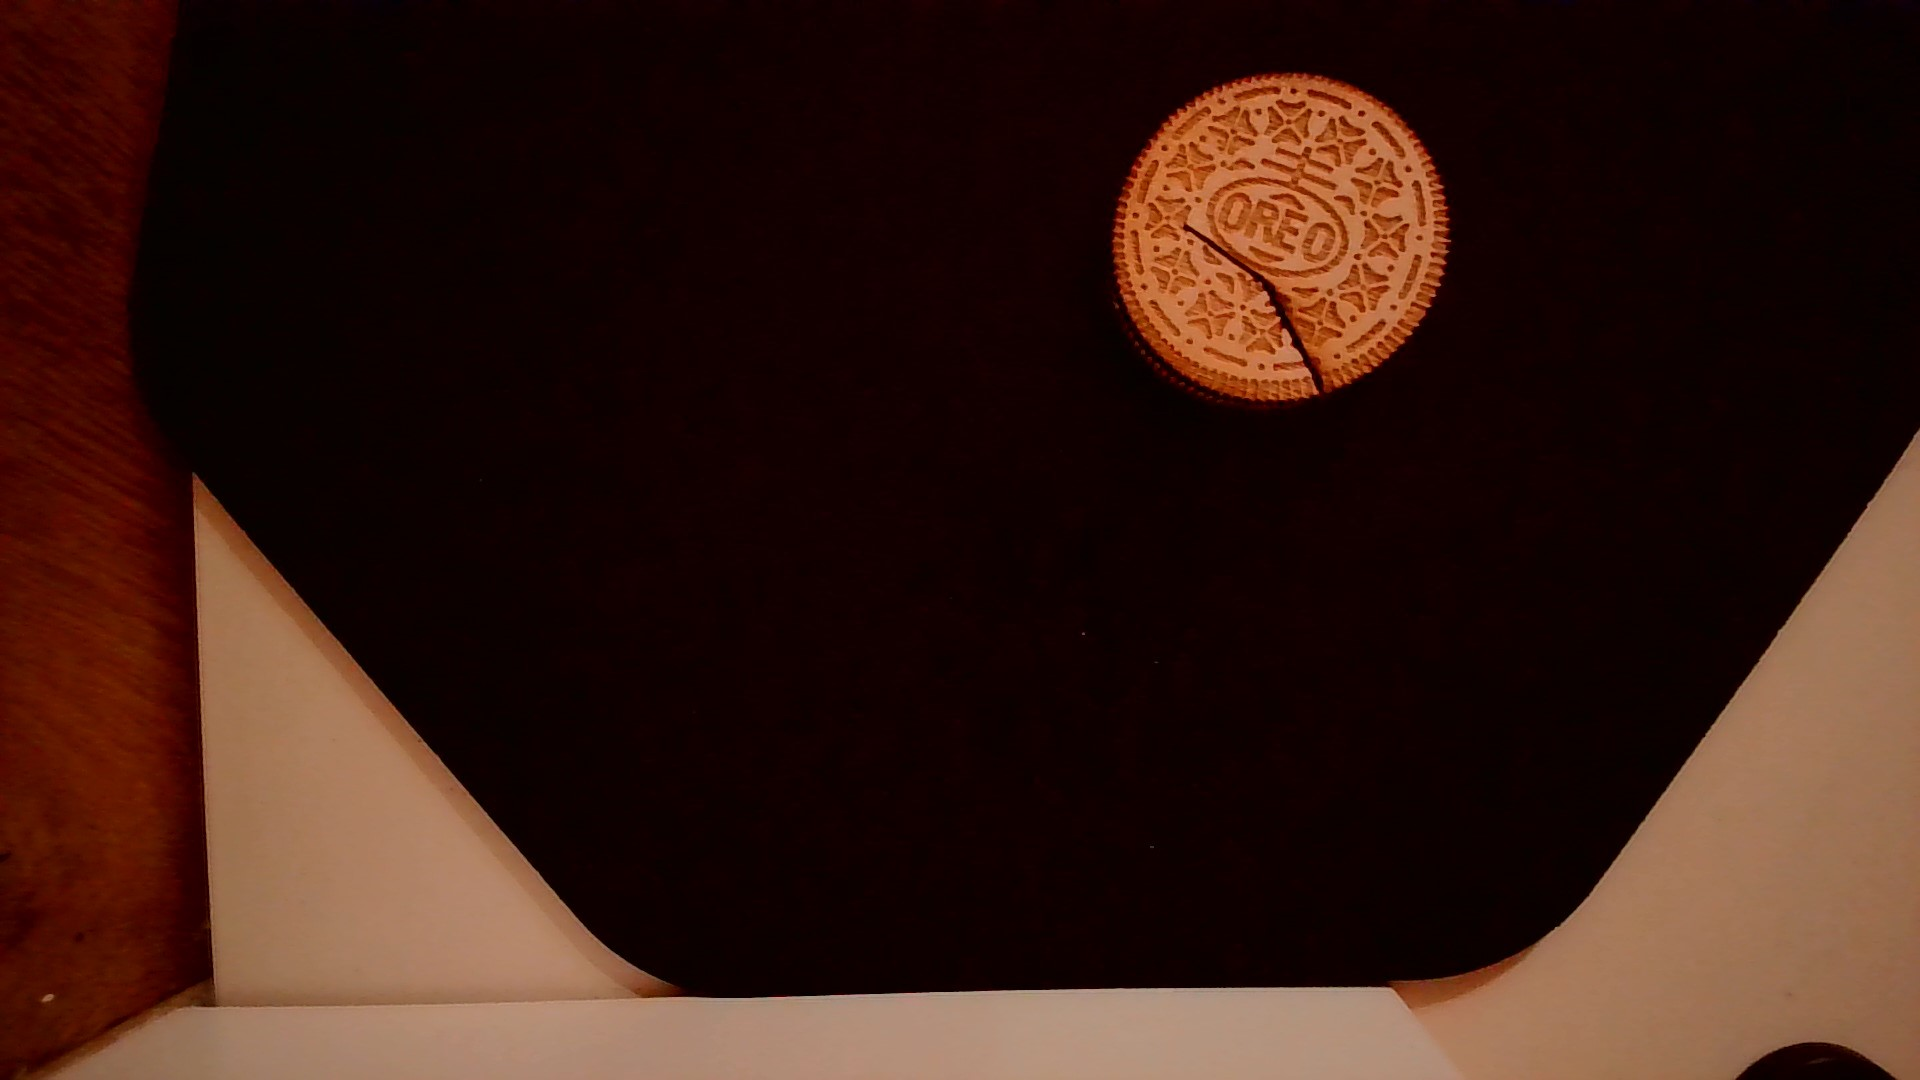Fissure: (1179, 207, 1338, 389)
Oréo: (1102, 61, 1461, 415)
